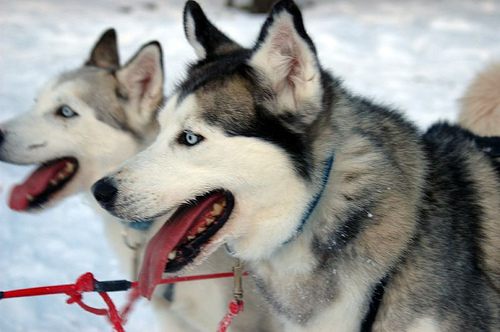dog: (90, 0, 499, 331), (0, 27, 290, 330)
